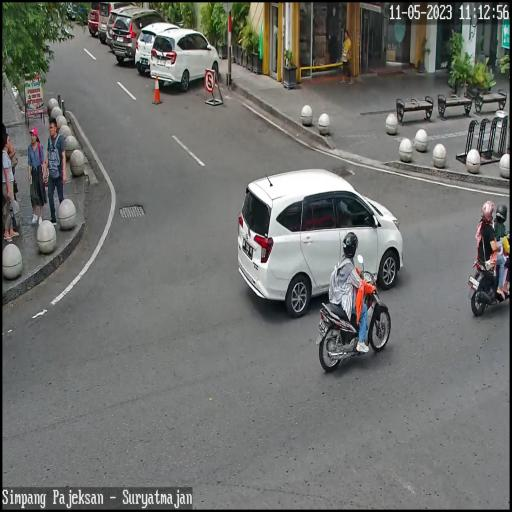mobil: (236, 164, 406, 320), (152, 27, 221, 93), (113, 6, 170, 72), (136, 21, 185, 82)
motor: (317, 256, 394, 380), (466, 222, 512, 317)
